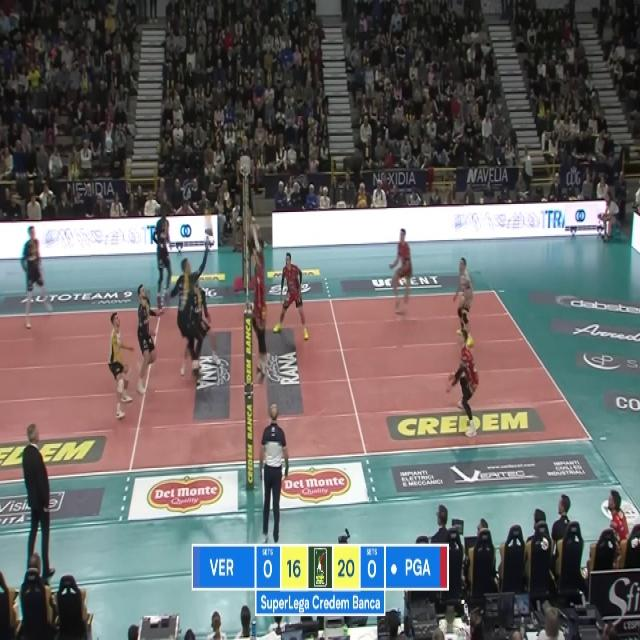volleyball court: (0, 287, 594, 481)
